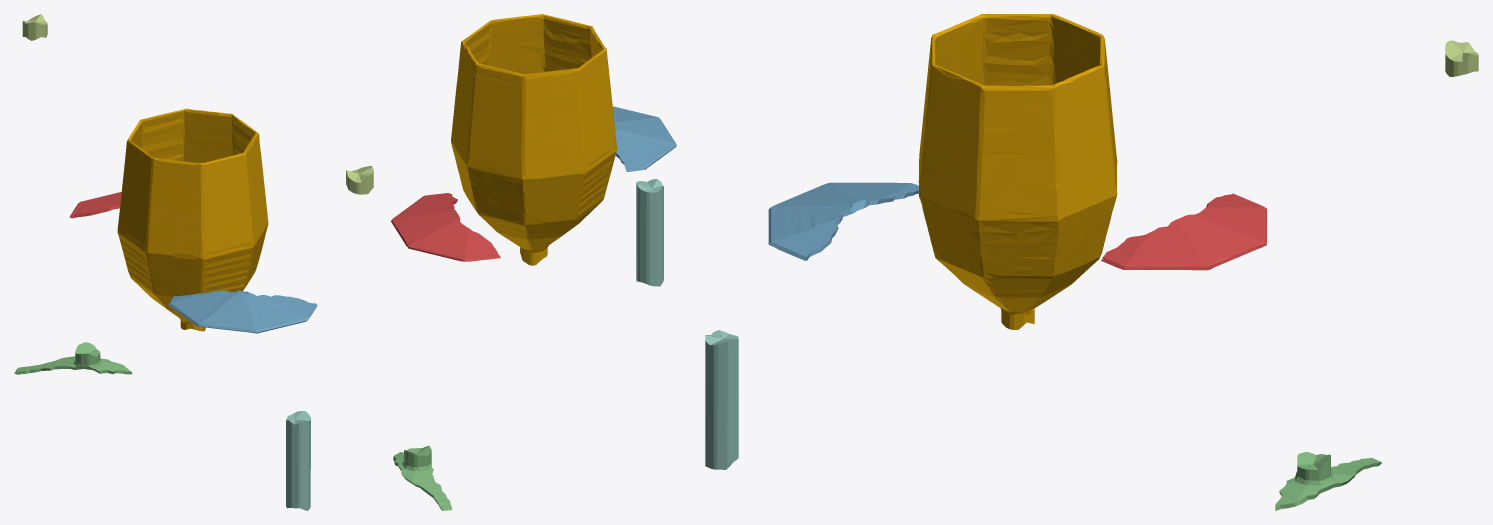
The model's file is fractured_10_6pcs_transformed.glb.
3 renders of one model, left to right at view 1: azimuth 30°, elevation 25°; view 2: azimuth 150°, elevation 25°; view 3: azimuth 270°, elevation 25°, orthographic. The views are drawn at different scales.
Parts seen in each view (by area): view 1: piece_0.obj, piece_2.obj, piece_4.obj, piece_3.obj, piece_1.obj, piece_5.obj; view 2: piece_0.obj, piece_1.obj, piece_4.obj, piece_2.obj, piece_3.obj, piece_5.obj; view 3: piece_0.obj, piece_1.obj, piece_2.obj, piece_4.obj, piece_3.obj, piece_5.obj.
Boxes of the visible parts, x1,y1,x2,y2 form: piece_0.obj: [117, 108, 268, 331]; piece_2.obj: [168, 290, 317, 333]; piece_4.obj: [286, 411, 310, 510]; piece_3.obj: [14, 342, 132, 374]; piece_1.obj: [69, 192, 121, 218]; piece_5.obj: [22, 14, 47, 40]; piece_0.obj: [451, 14, 617, 265]; piece_1.obj: [391, 193, 500, 261]; piece_4.obj: [636, 179, 663, 286]; piece_2.obj: [612, 106, 676, 171]; piece_3.obj: [393, 445, 452, 510]; piece_5.obj: [346, 166, 373, 194]; piece_0.obj: [918, 14, 1117, 329]; piece_1.obj: [1101, 193, 1266, 270]; piece_2.obj: [768, 182, 918, 260]; piece_4.obj: [705, 330, 738, 469]; piece_3.obj: [1275, 452, 1381, 510]; piece_5.obj: [1445, 40, 1478, 76].
Size of the model in its own units: 0.4104 by 1.01 by 1.57.
